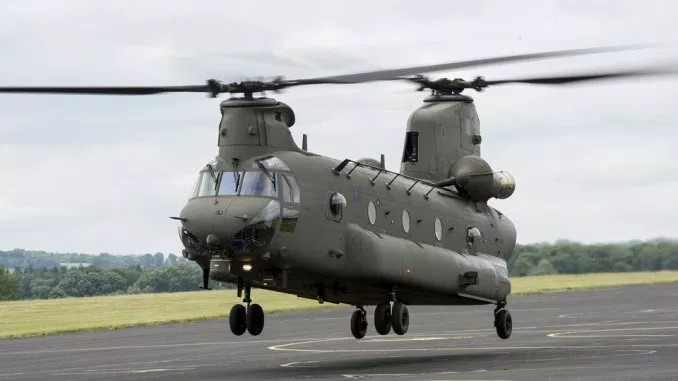chinook: (78, 47, 664, 340)
